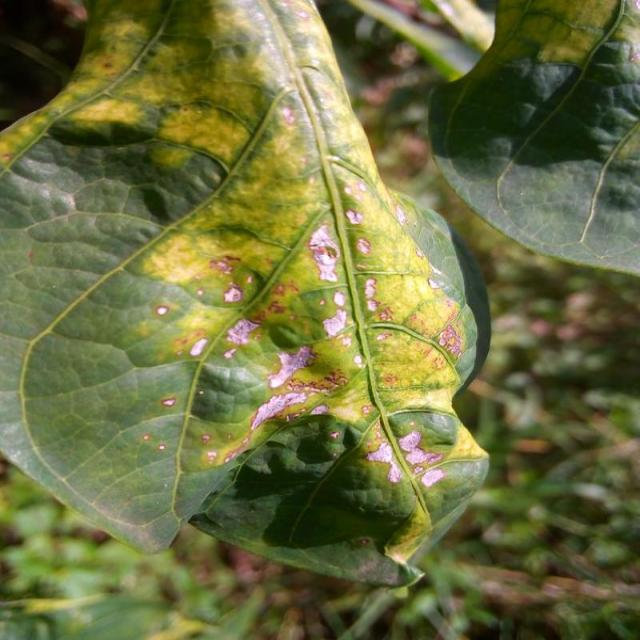cassava leaf: (0, 0, 491, 589), (425, 0, 638, 277)
